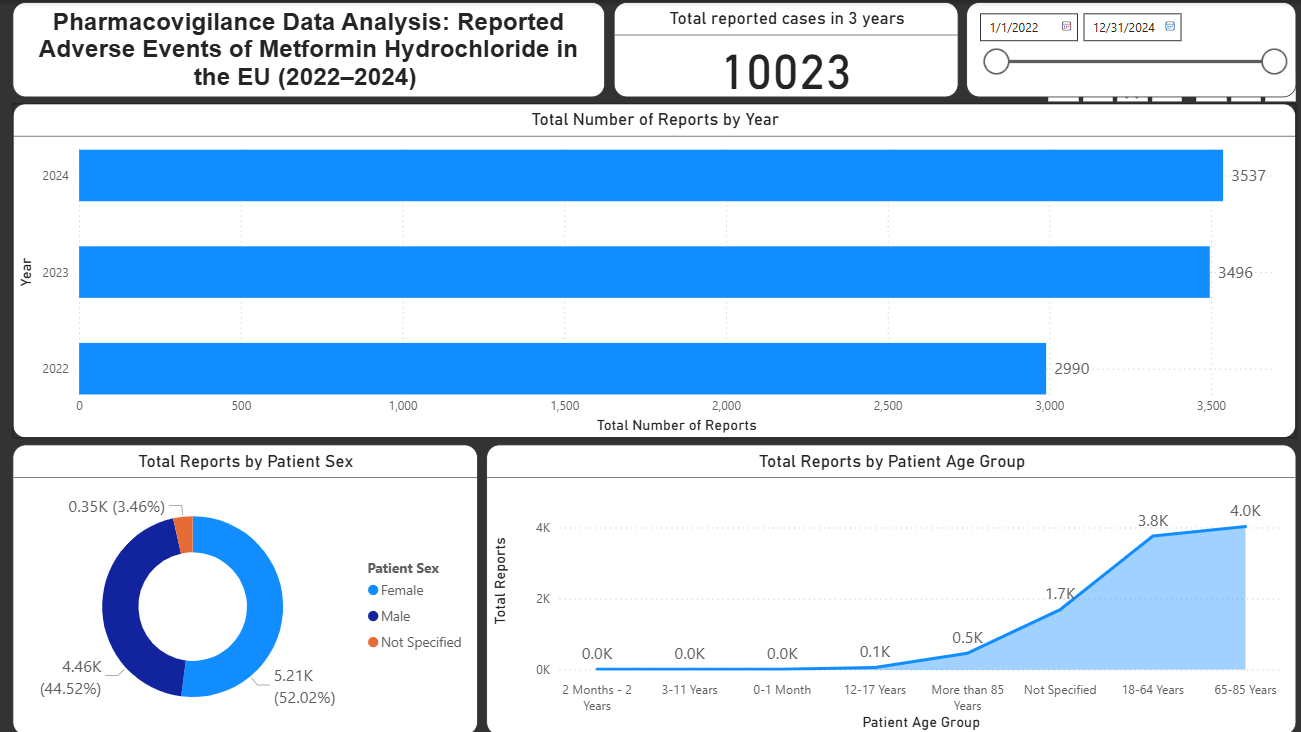

This screenshot's page, from the dashboard's own definition file:
{"tool":"powerbi","page":{"name":"Page 1","canvas":[1280,720],"ordinal":0},"visuals":[{"type":"barChart","fields":{"Category":["Metformin 22-24.EV Gateway Receipt Date.Variation.Date Hierarchy.Year","Metformin 22-24.EV Gateway Receipt Date.Variation.Date Hierarchy.Quarter","Metformin 22-24.EV Gateway Receipt Date.Variation.Date Hierarchy.Month","Metformin 22-24.EV Gateway Receipt Date.Variation.Date Hierarchy.Day"],"Y":["CountNonNull(Metformin 22-24.Report Type)"]},"box":[10,0,629.4,424.2],"z":0},{"type":"donutChart","fields":{"Category":["Metformin 22-24.Patient Sex"],"Y":["CountNonNull(Metformin 22-24.Report Type)"]},"box":[650.6,0,629.4,286.1],"z":1},{"type":"areaChart","fields":{"Category":["Metformin 22-24.Patient Age Group"],"Y":["CountNonNull(Metformin 22-24.Report Type)"]},"box":[650.6,359.5,629.4,286.1],"z":2},{"type":"card","fields":{"Values":["Metformin 22-24.Total AE reported in 3 years"]},"box":[10,424,629,222],"z":3},{"type":"slicer","fields":{"Values":["Metformin 22-24.EV Gateway Receipt Date"]},"box":[23.6,619.5,301,100.8],"z":4}]}

Visuals, with their boxes in screenshot pixels (x1, y1, x2, y2), scaled from the page's 1280x720 canvas onto the 1301x732 screenshot:
barChart - Metformin 22-24.EV Gateway Receipt Date.Variation.Date Hierarchy.Year x Metformin 22-24.EV Gateway Receipt Date.Variation.Date Hierarchy.Quarter: BBox(10, 0, 650, 431)
donutChart - Metformin 22-24.Patient Sex x CountNonNull(Metformin 22-24.Report Type): BBox(661, 0, 1300, 291)
areaChart - Metformin 22-24.Patient Age Group x CountNonNull(Metformin 22-24.Report Type): BBox(661, 365, 1300, 656)
card - Metformin 22-24.Total AE reported in 3 years: BBox(10, 431, 649, 657)
slicer - Metformin 22-24.EV Gateway Receipt Date: BBox(24, 630, 330, 731)
